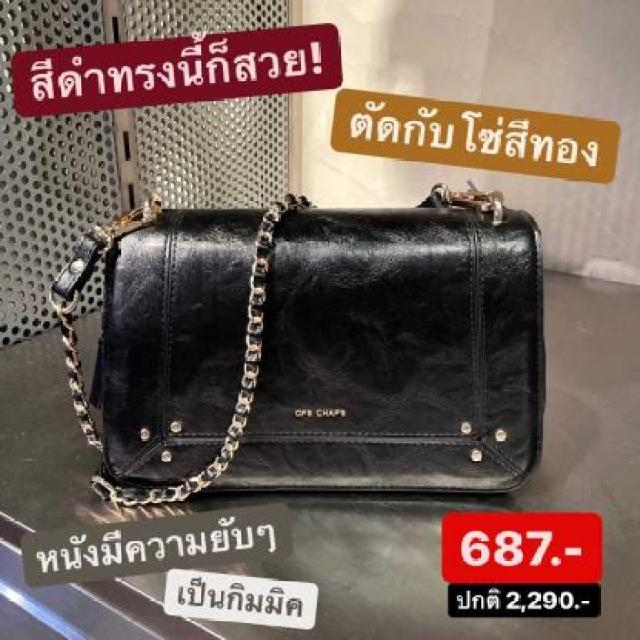Bag: (43, 168, 574, 528)
